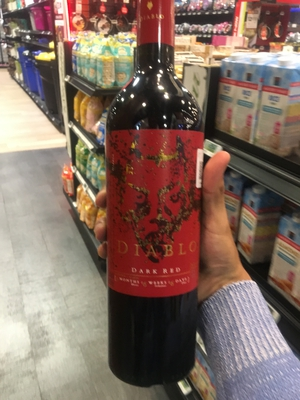diablo dark red: (100, 21, 214, 361)
